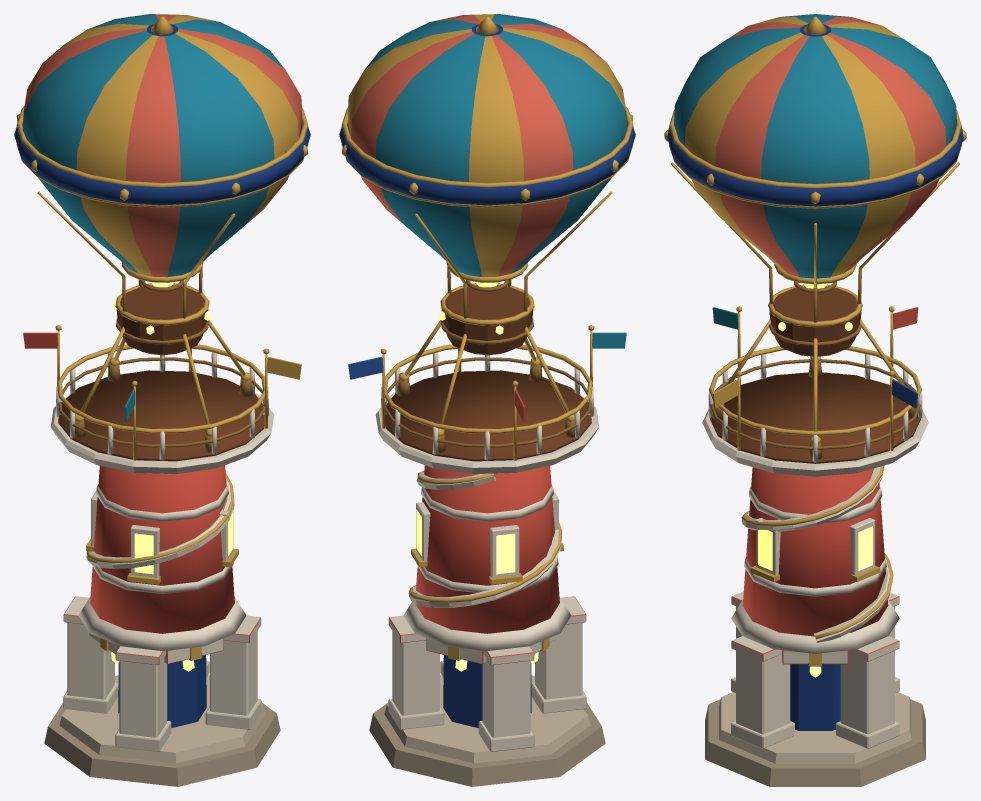
Rendered from landmark_cloud_balloon.glb.
3 views of the same model, side by side, from view 1: azimuth 30°, elevation 25°; view 2: azimuth 150°, elevation 25°; view 3: azimuth 270°, elevation 25° (orthographic).
Visible parts, largest first — view 1: landmark_cloud_balloon; view 2: landmark_cloud_balloon; view 3: landmark_cloud_balloon.
Part boxes in pixels (x1,y1,x2,y2): landmark_cloud_balloon: [14, 14, 310, 786]; landmark_cloud_balloon: [339, 14, 635, 786]; landmark_cloud_balloon: [664, 14, 966, 786].
Bounding box in the file's own units: 7.97 × 21 × 7.95.
